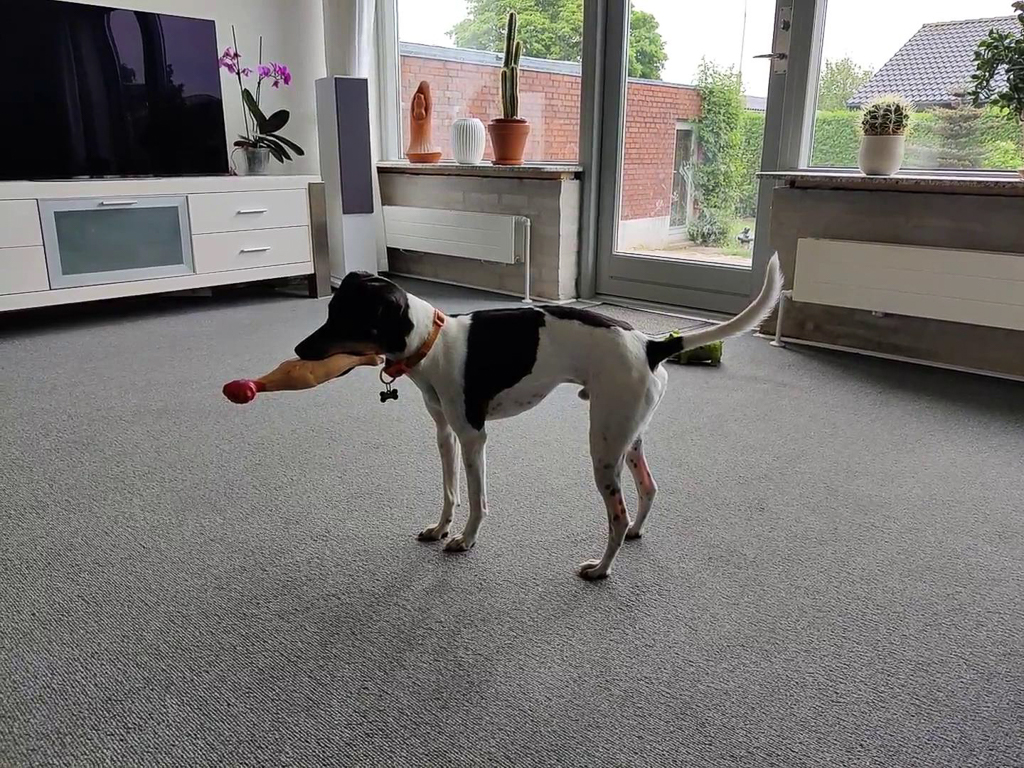Dog: (281, 230, 793, 607)
Humanoid: (401, 78, 447, 154), (735, 224, 758, 253)
